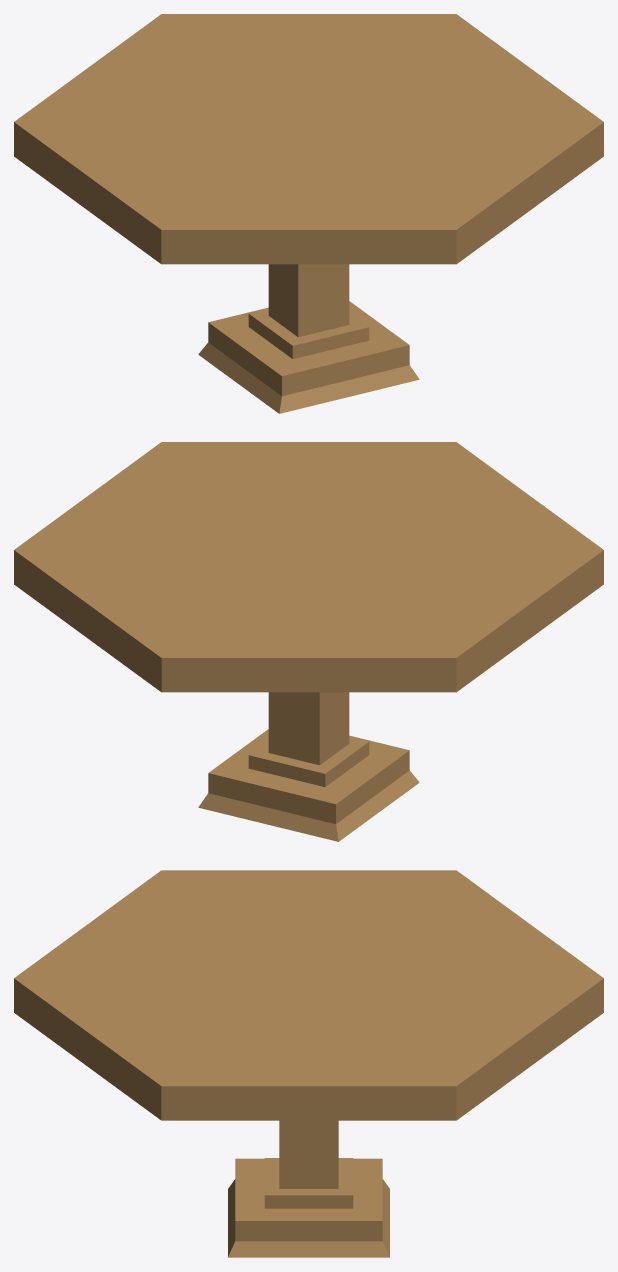
File: tableRound.glb
3 views of the same model, one above another, from view 1: azimuth 30°, elevation 25°; view 2: azimuth 150°, elevation 25°; view 3: azimuth 270°, elevation 25° (orthographic).
Parts seen in each view (by area): view 1: tableRound; view 2: tableRound; view 3: tableRound.
Part boxes in pixels (x1,y1,x2,y2): tableRound: (14, 14, 603, 413); tableRound: (14, 442, 603, 841); tableRound: (14, 870, 603, 1257).
Size of the model in its own units: 1.39 by 0.7335 by 1.6.
